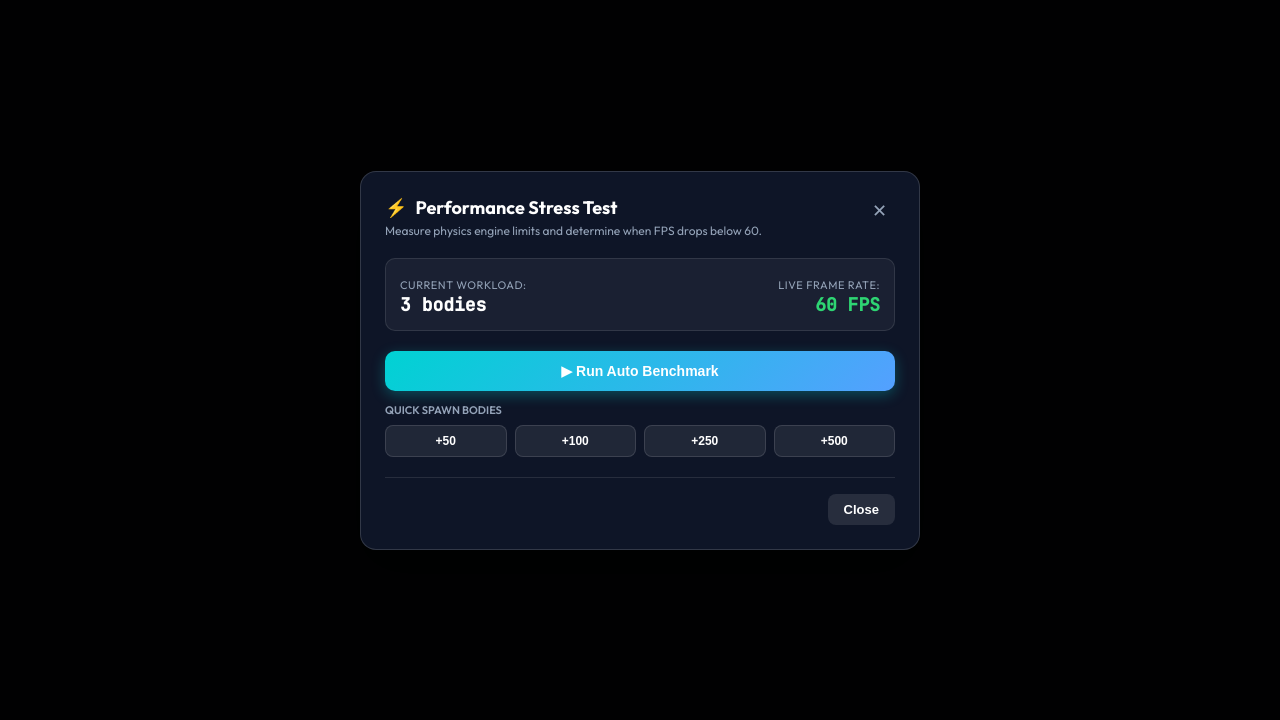
Test: StressTestModal component › switches to sandbox mode and starts benchmark on click
The image size is (1280, 720).
Click the button "▶ Run Auto Benchmark" at (640, 370), box [385, 350, 895, 390]
Wait 1500 ms
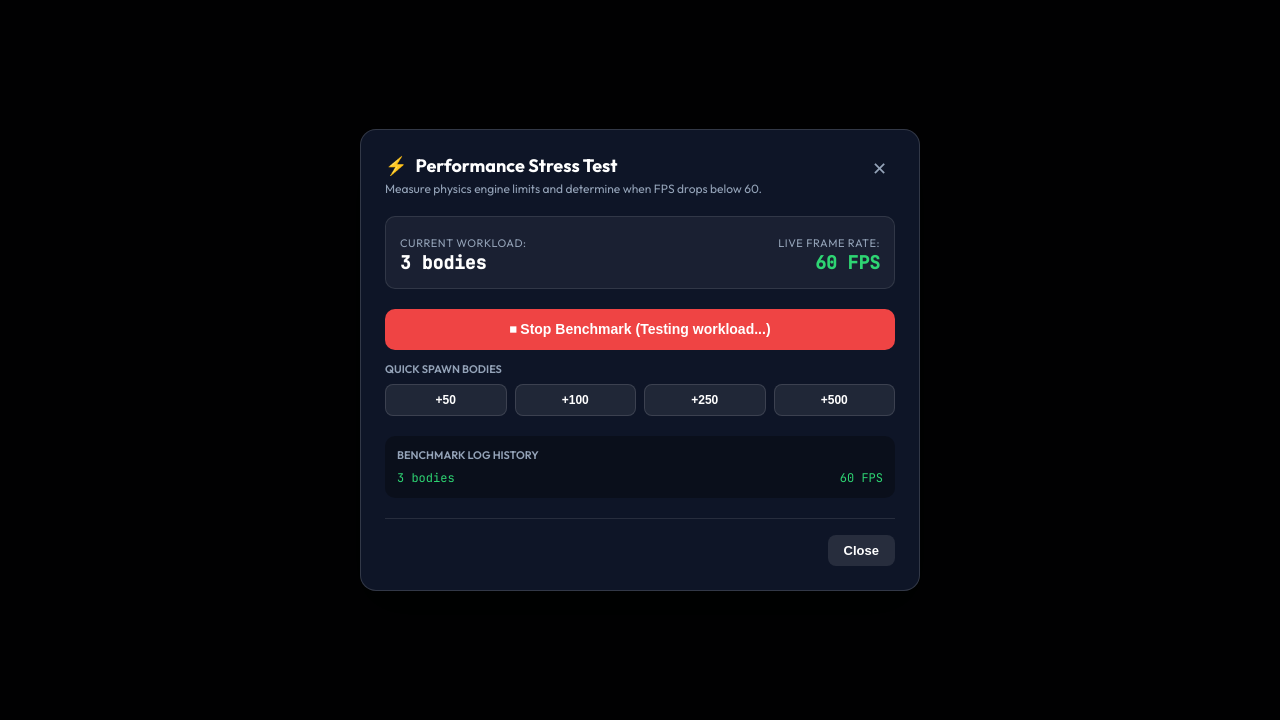
Now the text "Benchmark Log History" is shown, box [397, 448, 539, 462]
